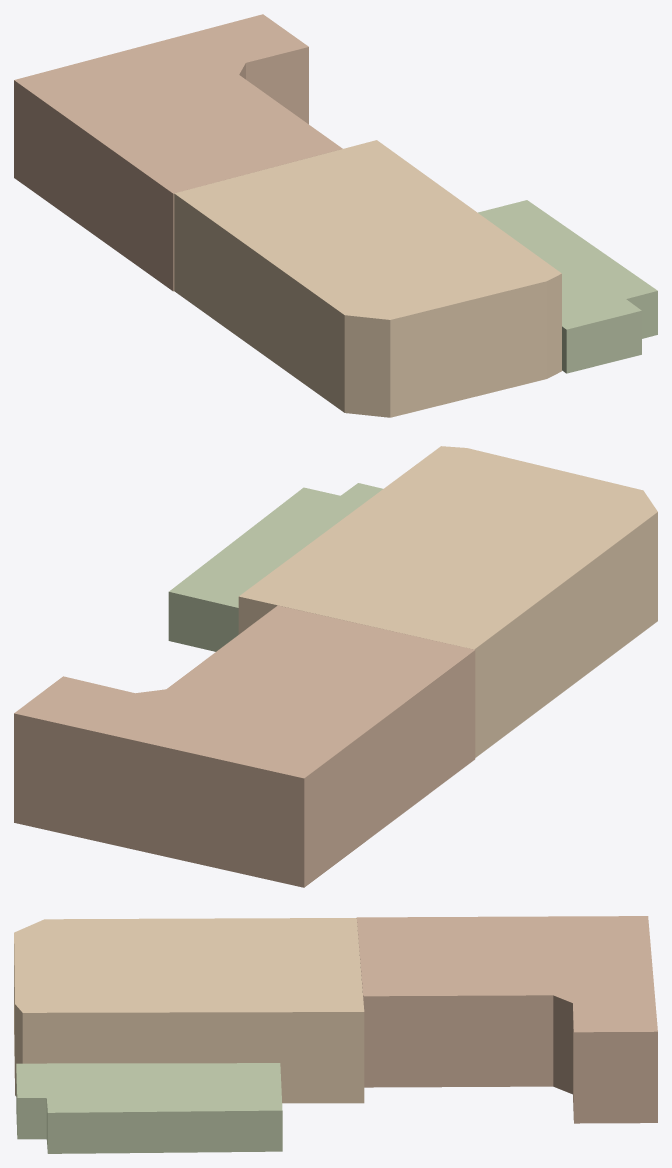
File: terminus-documented.gltf
3 views of the same model, one above another, from view 1: azimuth 30°, elevation 25°; view 2: azimuth 150°, elevation 25°; view 3: azimuth 270°, elevation 25° (orthographic). The views are drawn at different scales.
Visible parts, largest first — view 1: 1917-corner-roof-envelope, 1900-wing-roof-envelope, 2017-visible-deck-area; view 2: 1900-wing-roof-envelope, 1917-corner-roof-envelope, 2017-visible-deck-area; view 3: 1917-corner-roof-envelope, 1900-wing-roof-envelope, 2017-visible-deck-area.
Boxes of the visible parts, <box> form: 1917-corner-roof-envelope: <box>174,140,561,417</box>; 1900-wing-roof-envelope: <box>14,14,342,291</box>; 2017-visible-deck-area: <box>478,200,657,373</box>; 1900-wing-roof-envelope: <box>14,605,475,887</box>; 1917-corner-roof-envelope: <box>238,446,657,757</box>; 2017-visible-deck-area: <box>168,483,382,651</box>; 1917-corner-roof-envelope: <box>14,918,364,1103</box>; 1900-wing-roof-envelope: <box>356,916,657,1123</box>; 2017-visible-deck-area: <box>16,1063,282,1153</box>.
Bounding box in the file's own units: 3.1 × 0.9 × 5.76.
